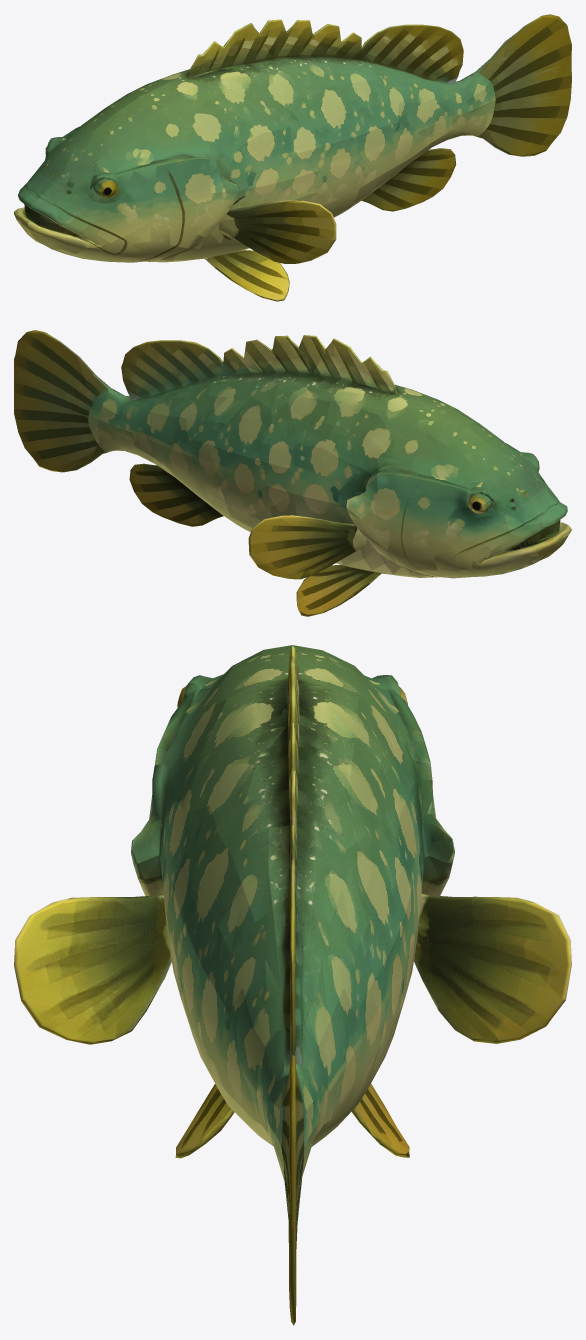
3 renders of one model, top to bottom at view 1: azimuth 30°, elevation 25°; view 2: azimuth 150°, elevation 25°; view 3: azimuth 270°, elevation 25°, orthographic. The views are drawn at different scales.
Size of the model in its own units: 1 by 0.4453 by 0.457.
Materials: 1 (1 with a texture image).
